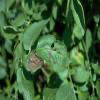Potato leaf late blight: (35, 34, 72, 73), (23, 49, 44, 76)
